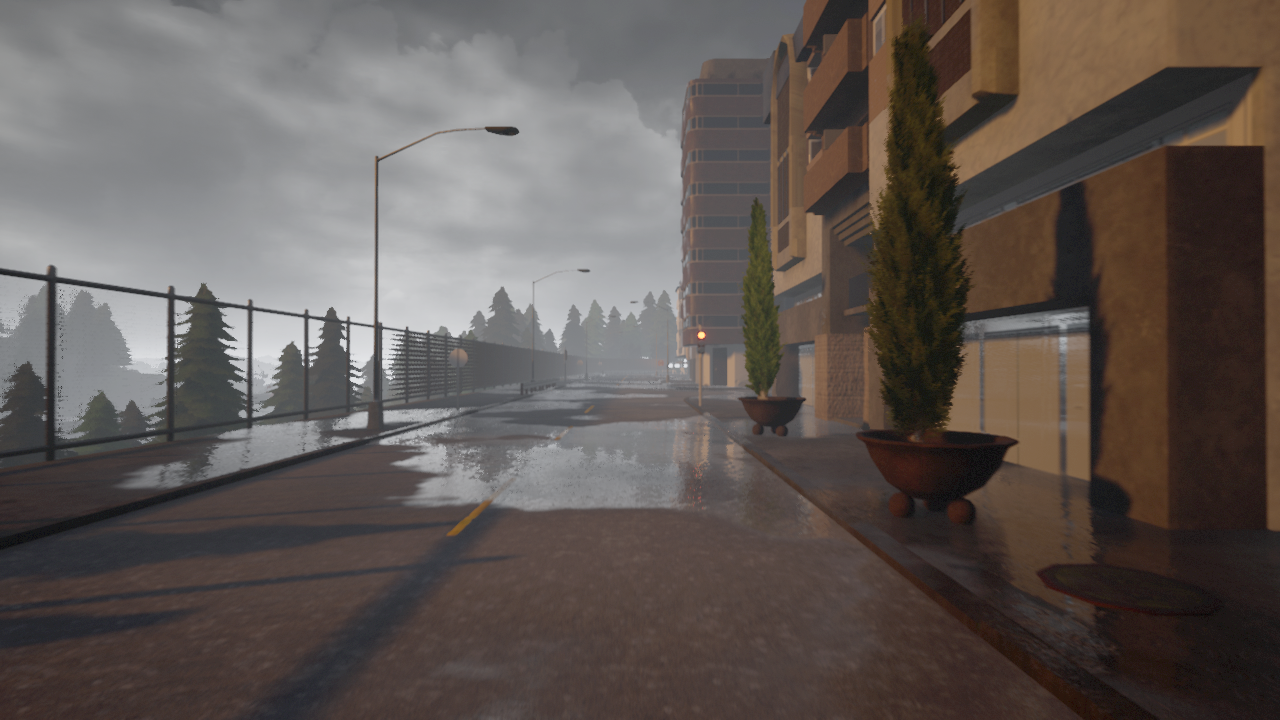red: (696, 330, 705, 355)
